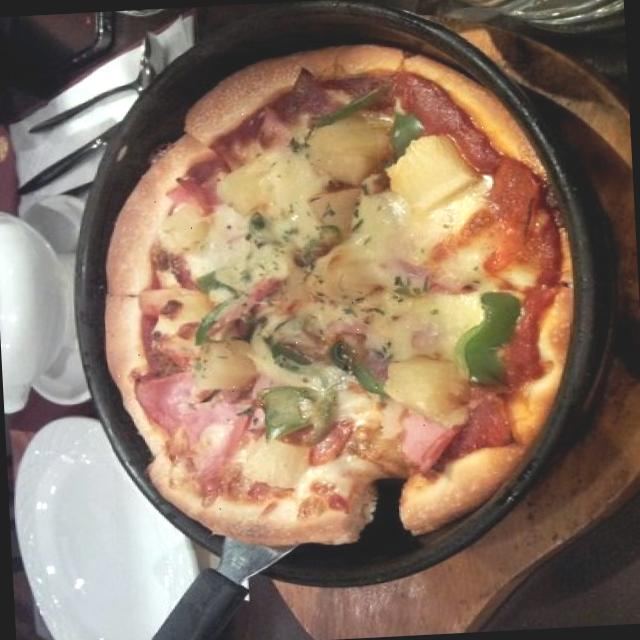Bell Pepper: (446, 292, 533, 393), (244, 370, 340, 454), (319, 331, 392, 404), (180, 284, 250, 354), (299, 82, 397, 130), (375, 106, 437, 174), (258, 331, 316, 374)
pizza: (108, 45, 572, 545)
